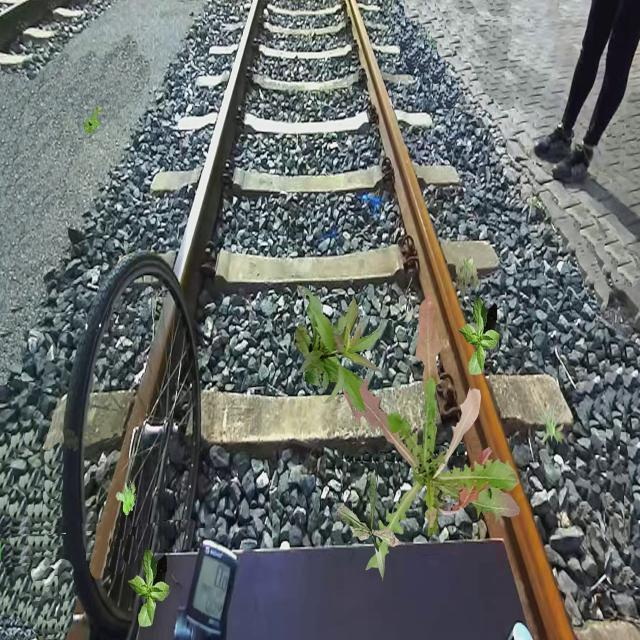Plant: (341, 292, 521, 570), (295, 285, 383, 415), (337, 473, 401, 585), (128, 547, 170, 627), (458, 295, 500, 375), (534, 400, 566, 446), (455, 254, 481, 296), (116, 483, 136, 516), (83, 105, 102, 138)
